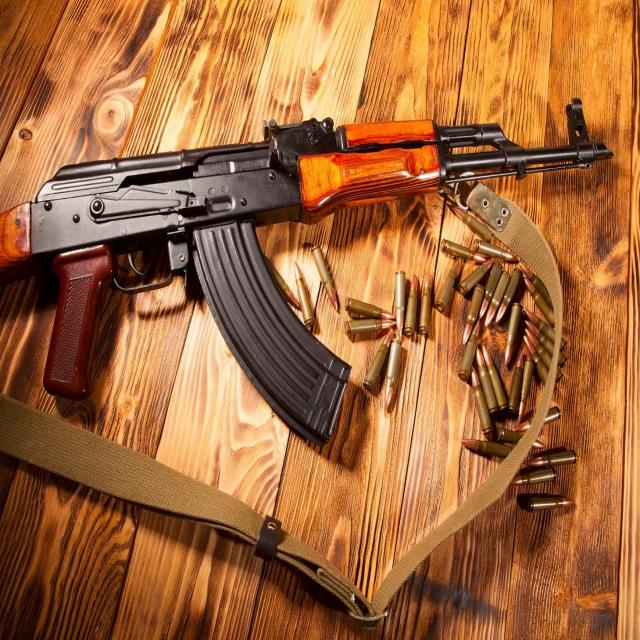Rifle: (0, 101, 615, 446)
